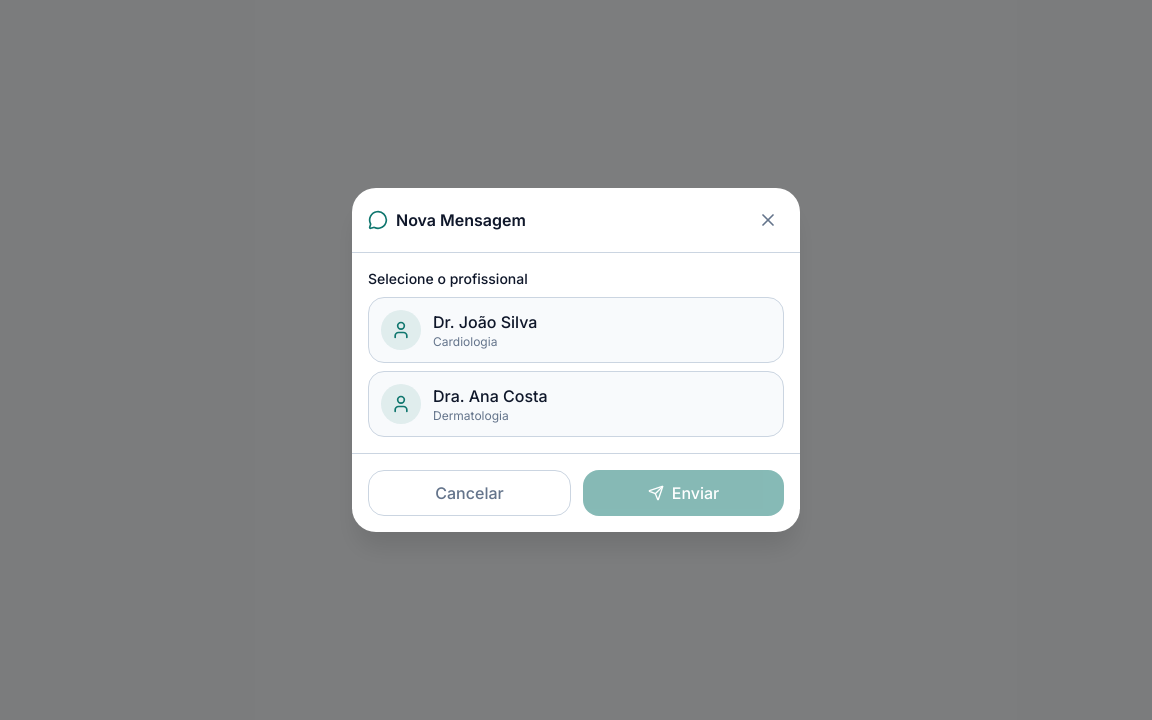
Test: NewConversationModal › professional selection › should show message input after selecting professional
The image size is (1152, 720).
Expected: the text "Sua mensagem" is not shown
Click the button "Dr. João Silva Cardiologia" at (401, 330), box [368,297,784,363]
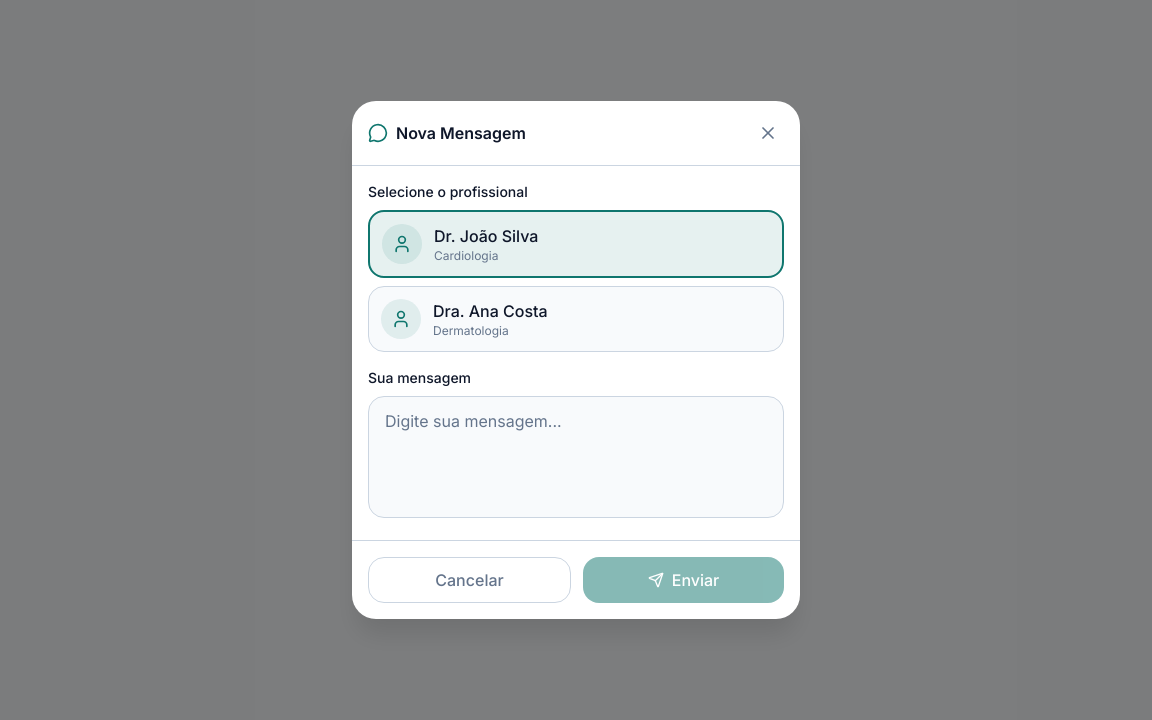
Expected: the text "Sua mensagem" is shown, [368,369,471,386]
